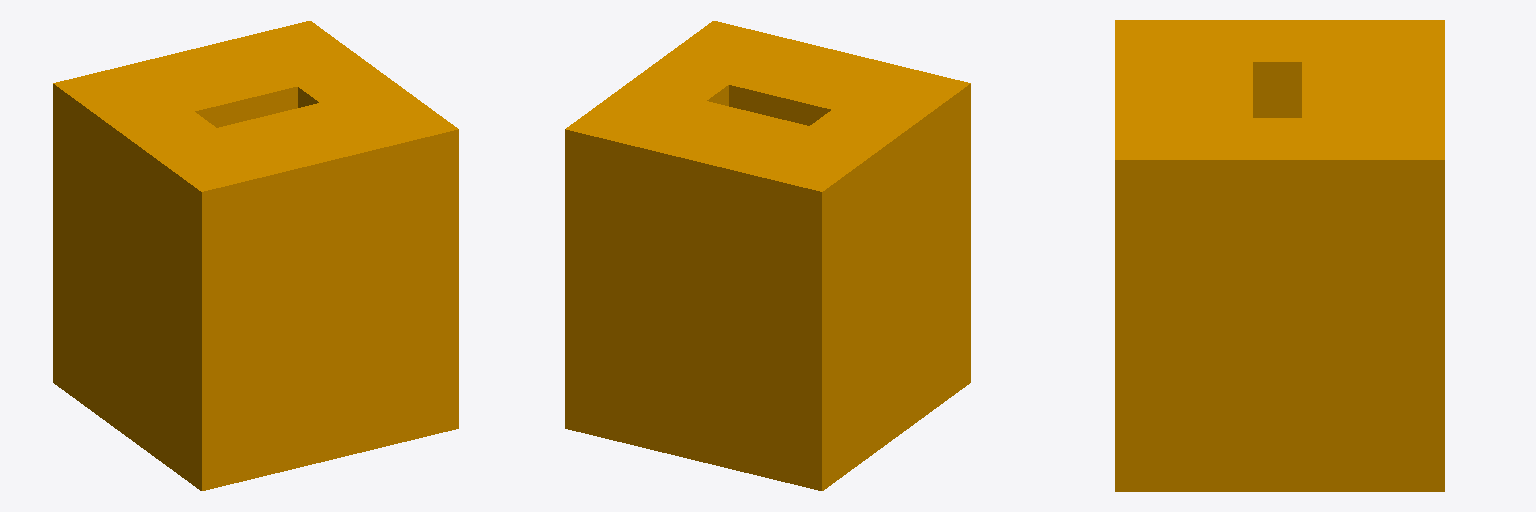
robot.urdf — obj.urdf:
<?xml version="1.0" ?>
<robot name="obj.urdf">
  <link name="baseLink">
    <visual>
      <origin rpy="0 0 0" xyz="0 0 0"/>
      <geometry>
        <mesh filename="./obj-and-urdf/usb_place_my.obj" />
      </geometry>
    </visual>
    <collision>
      <origin rpy="0 0 0" xyz="0 0 0"/>
      <geometry>
        <mesh filename="./obj-and-urdf/usb_place_my.obj" />
      </geometry>
    </collision>
    <inertial>
      <!-- Mass value from the *empty* spam can. Full spam can is 368g -->
      <mass value="0.1"/> 
      <inertia ixx="0.0001" ixy="0.0" ixz="0.0" iyy="0.0001" iyz="0.0" izz="0.0001"/>
    </inertial>
  </link>
</robot>

--- Render facts (derived) ---
Views: 3 orthographic renders of the robot side by side, from view 1: azimuth 30°, elevation 25°; view 2: azimuth 150°, elevation 25°; view 3: azimuth 270°, elevation 25°.
Model obj.urdf with 1 links and 0 joints (none), rooted at baseLink, posed all joints at 0.
Links seen in each view (by area): view 1: baseLink; view 2: baseLink; view 3: baseLink.
Boxes of the visible links, x1,y1,x2,y2 form: baseLink: (53, 21, 458, 490); baseLink: (565, 21, 970, 490); baseLink: (1115, 20, 1444, 491).
Size in the robot's own frame: 0.0432 by 0.0432 by 0.048 metres.
1 mesh visuals loaded from 1 distinct referenced files (1 OBJ).